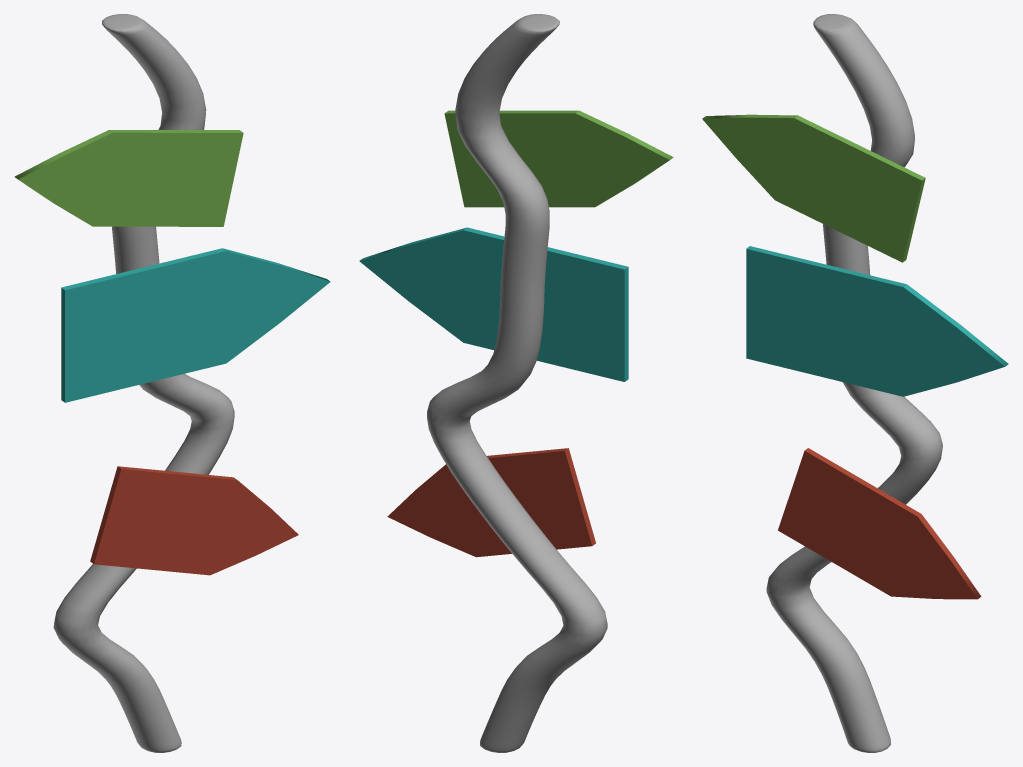
Rendered from sign.fbx.
3 views of the same model, side by side, from view 1: azimuth 30°, elevation 25°; view 2: azimuth 150°, elevation 25°; view 3: azimuth 330°, elevation 25° (orthographic). The views are drawn at different scales.
Visible parts, largest first — view 1: pCube5; view 2: pCube5; view 3: pCube5.
Part boxes in pixels (x1=…): pCube5: x1=14, y1=14, x2=330, y2=752; pCube5: x1=359, y1=14, x2=673, y2=752; pCube5: x1=702, y1=14, x2=1008, y2=752.
Bounding box in the file's own units: 2.32 × 5.22 × 0.348.
